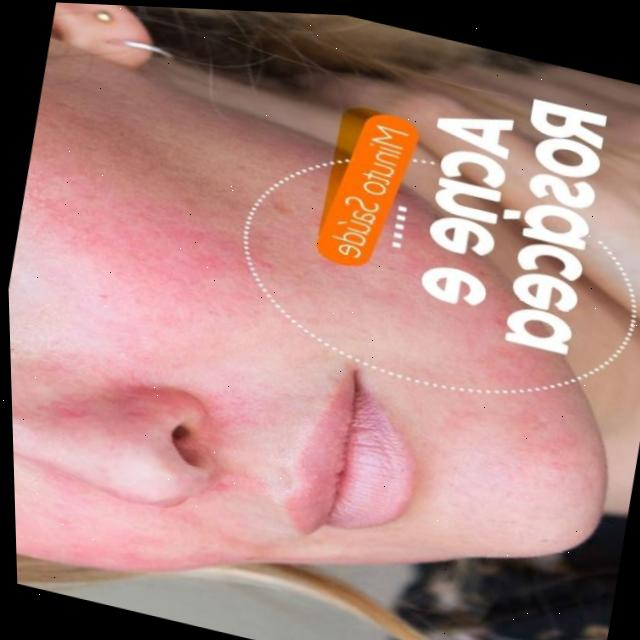Rosacea: (11, 356, 278, 604), (39, 143, 236, 304)
